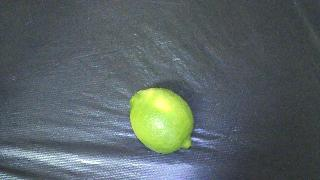LOCAL: (129, 88, 194, 154)
